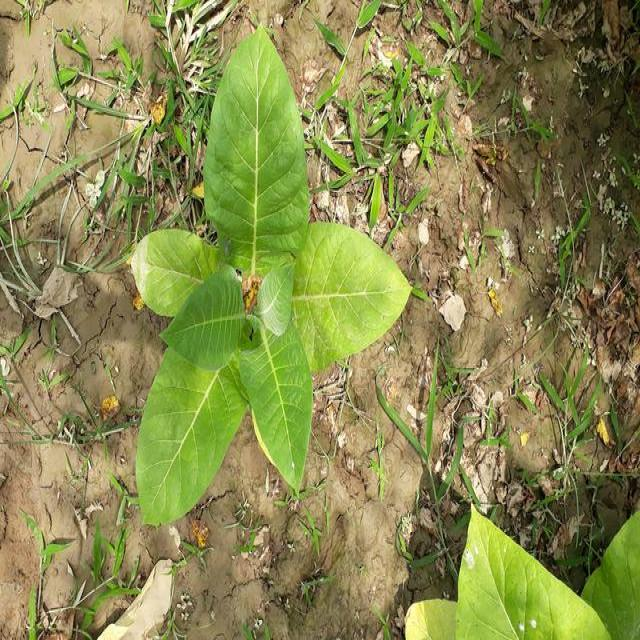crop: (134, 35, 407, 523), (454, 511, 640, 640)
